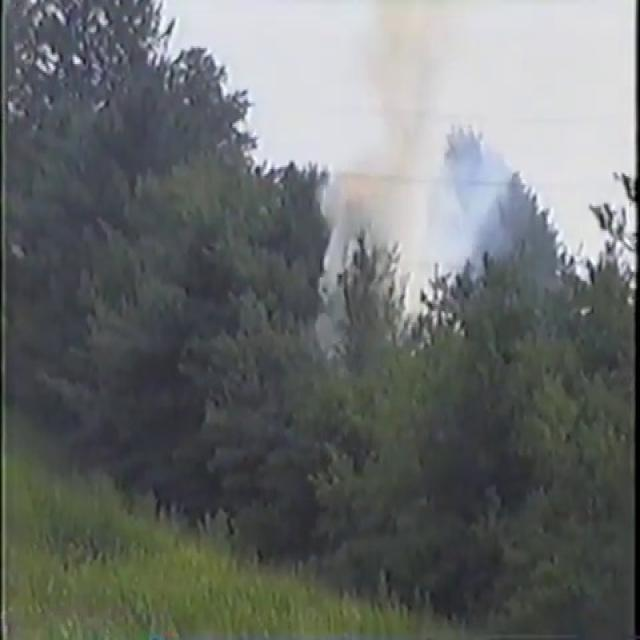Smoke: (315, 0, 516, 300)
